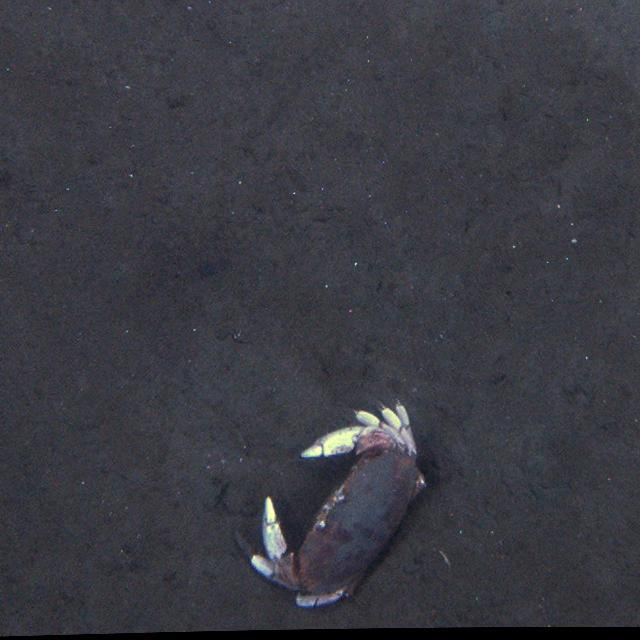crab: (244, 398, 425, 614)
